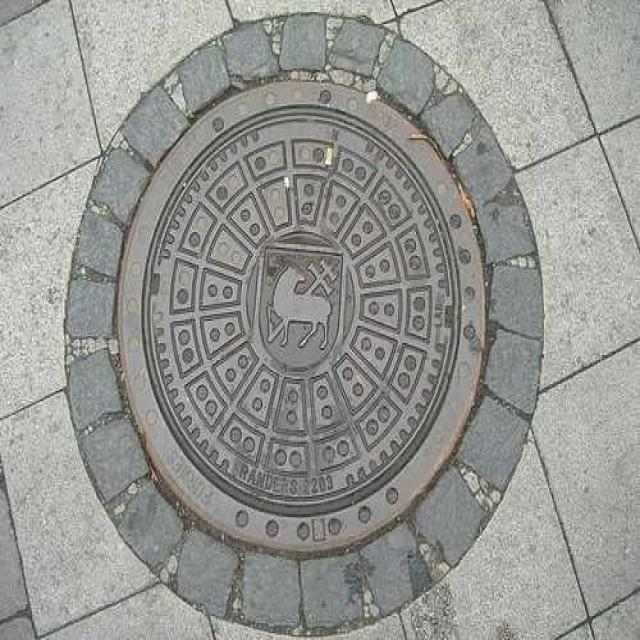manhole: (120, 82, 486, 552)
